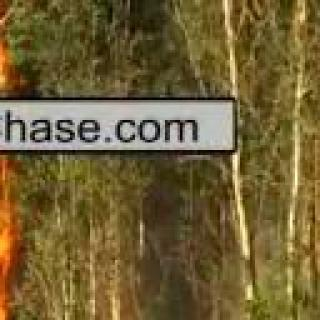fire: (0, 161, 20, 320), (0, 0, 8, 97)
